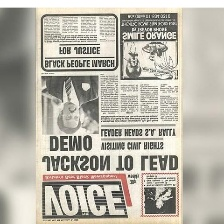news_paper: (35, 6, 183, 223)
